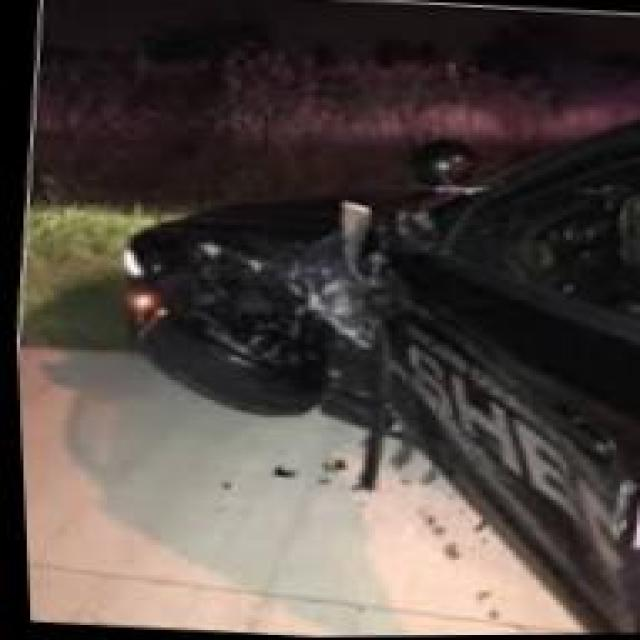Fender: (154, 222, 411, 362)
